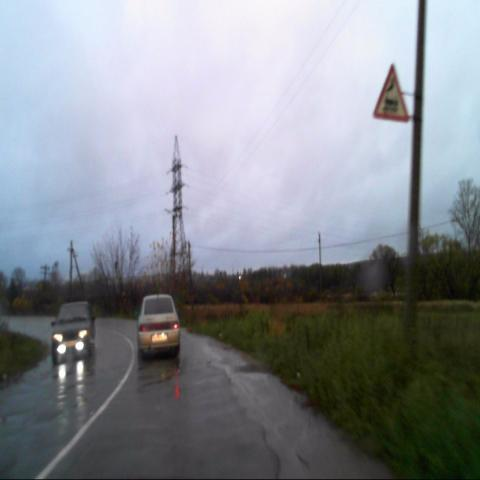1_2: (373, 63, 410, 123)
